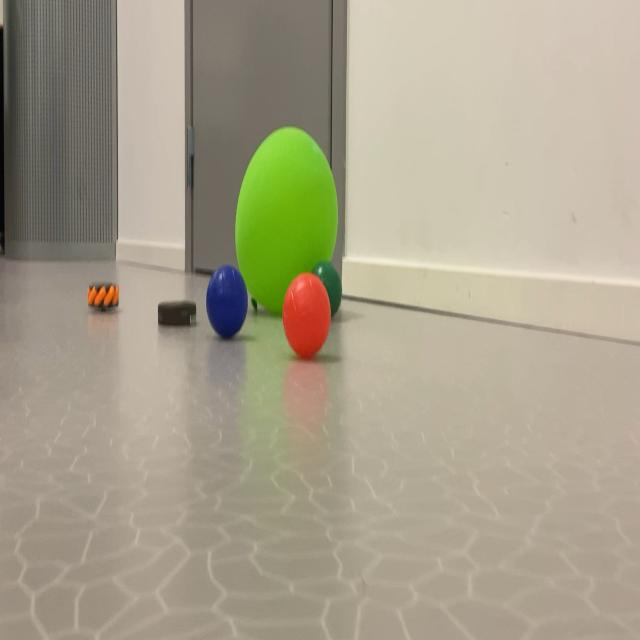7: (276, 268, 332, 367)
blue ball: (200, 252, 344, 368)
green ball: (201, 260, 250, 343)
red ball: (311, 253, 349, 319)
